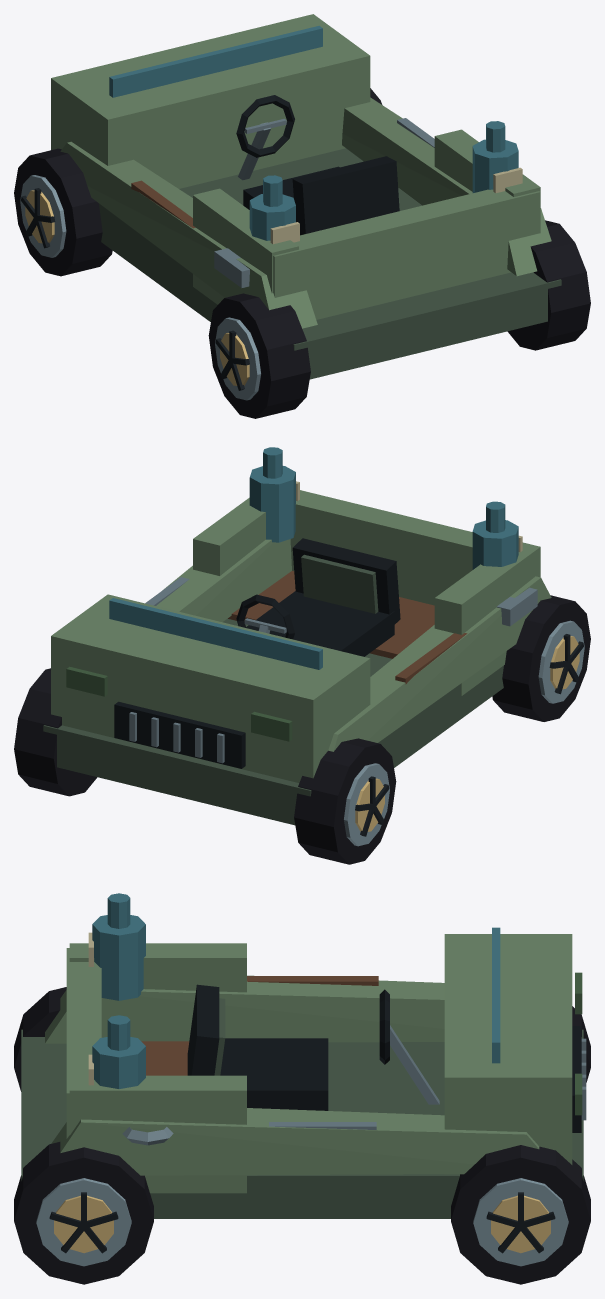
File: kart.glb
3 renders of one model, top to bottom at view 1: azimuth 30°, elevation 25°; view 2: azimuth 150°, elevation 25°; view 3: azimuth 270°, elevation 25°, orthographic. The views are drawn at different scales.
Parts seen in each view (by area): view 1: identity-truck-truck-utility-body, wheel-rear-left, wheel-front-left, identity-truck-driver-cockpit, wheel-rear-right, identity-truck-motif-bottles, identity-truck-motif-tools; view 2: identity-truck-truck-utility-body, identity-truck-driver-cockpit, wheel-front-left, wheel-rear-left, identity-truck-motif-bottles, wheel-front-right, identity-truck-motif-tools; view 3: identity-truck-truck-utility-body, wheel-front-right, wheel-rear-right, identity-truck-driver-cockpit, identity-truck-motif-bottles, identity-truck-motif-tools, wheel-rear-left.
Boxes of the visible parts, box(x1,y1,x2,y2) form: identity-truck-truck-utility-body: box(51, 14, 561, 379); wheel-rear-left: box(208, 293, 310, 418); wheel-front-left: box(14, 148, 112, 276); identity-truck-driver-cockpit: box(236, 95, 399, 235); wheel-rear-right: box(507, 220, 590, 350); identity-truck-motif-bottles: box(249, 121, 522, 244); identity-truck-motif-tools: box(131, 118, 434, 287); identity-truck-truck-utility-body: box(43, 490, 551, 825); identity-truck-driver-cockpit: box(236, 538, 400, 656); wheel-front-left: box(294, 738, 396, 864); wheel-rear-left: box(492, 595, 590, 721); identity-truck-motif-bottles: box(249, 447, 522, 569); wheel-front-right: box(14, 668, 97, 796); identity-truck-motif-tools: box(145, 577, 537, 684); identity-truck-truck-utility-body: box(21, 927, 586, 1218); wheel-front-right: box(451, 1145, 590, 1284); wheel-rear-right: box(14, 1142, 153, 1284); identity-truck-driver-cockpit: box(187, 984, 439, 1110); identity-truck-motif-bottles: box(88, 893, 145, 1088); identity-truck-motif-tools: box(122, 976, 378, 1145); wheel-rear-left: box(14, 987, 66, 1091).
Bounding box in the file's own units: 2.13 × 1.27 × 2.8.
